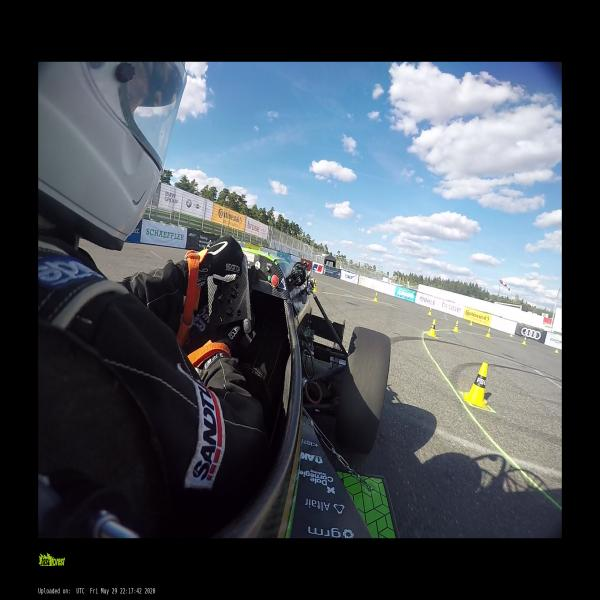yellow_cone: (464, 362, 494, 409), (426, 319, 437, 338), (453, 320, 459, 333), (486, 328, 491, 338), (373, 293, 378, 302), (313, 279, 316, 292), (522, 337, 526, 345), (428, 308, 432, 315), (555, 347, 559, 353), (470, 320, 473, 326), (510, 332, 513, 337)
